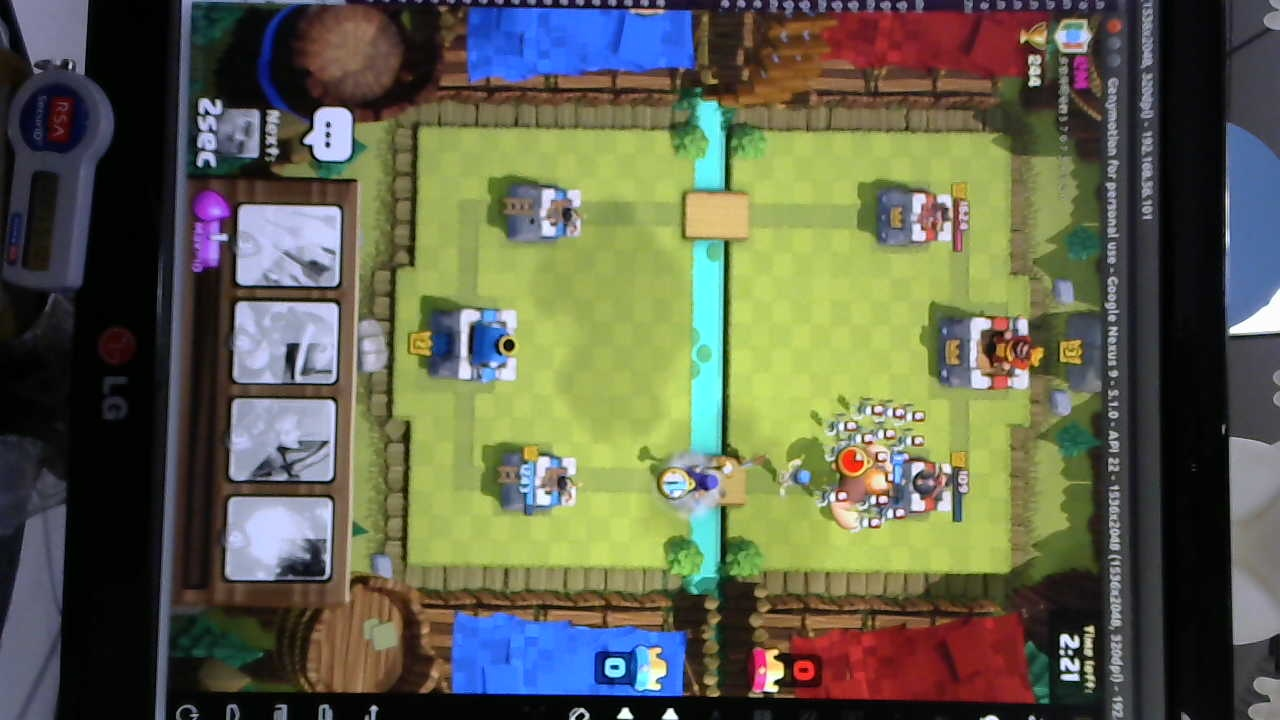arena: (506, 181, 587, 248), (501, 449, 582, 513)
bomb: (775, 458, 813, 499)
earena: (876, 188, 955, 252), (887, 455, 951, 510)
eking: (937, 314, 1038, 397)
giant: (828, 443, 878, 531)
king: (427, 302, 526, 385)
skeletonarmy: (819, 400, 934, 528)
witch: (675, 460, 737, 499)
